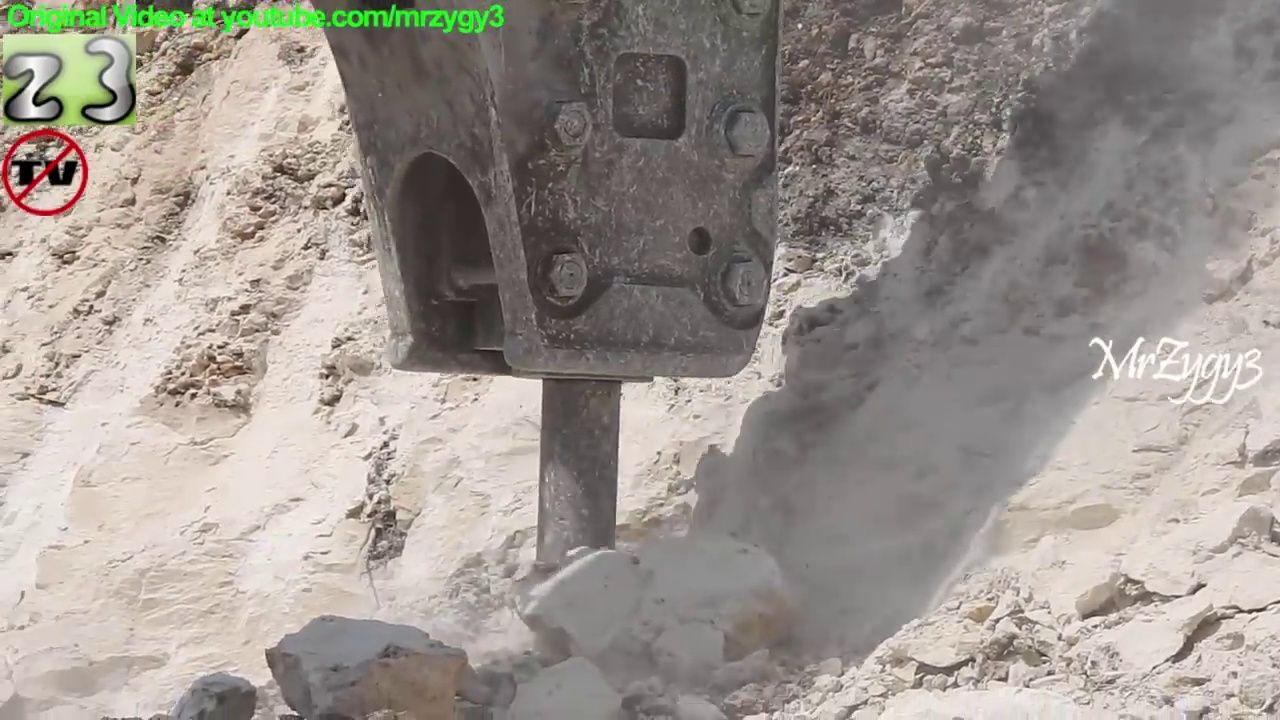excavator: (298, 1, 800, 659)
